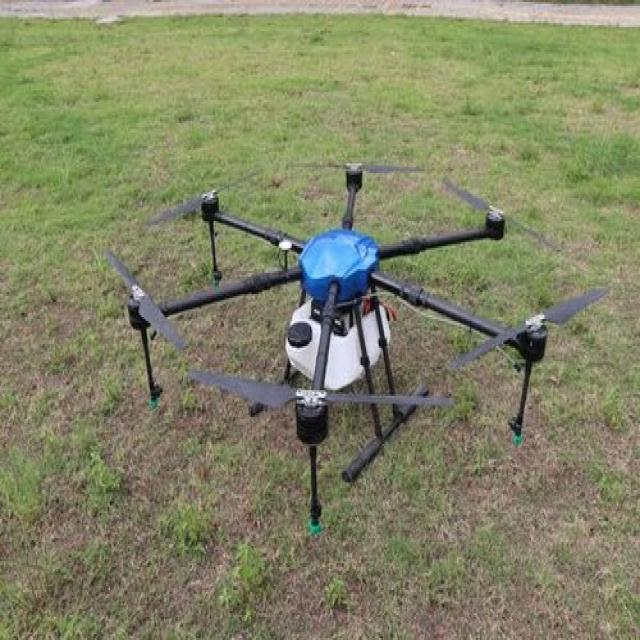drone: (91, 164, 606, 508)
